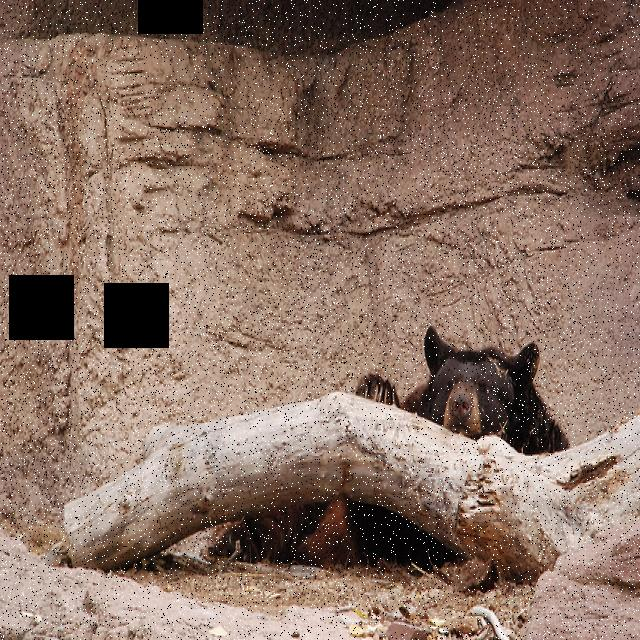Bear: (220, 324, 580, 566)
